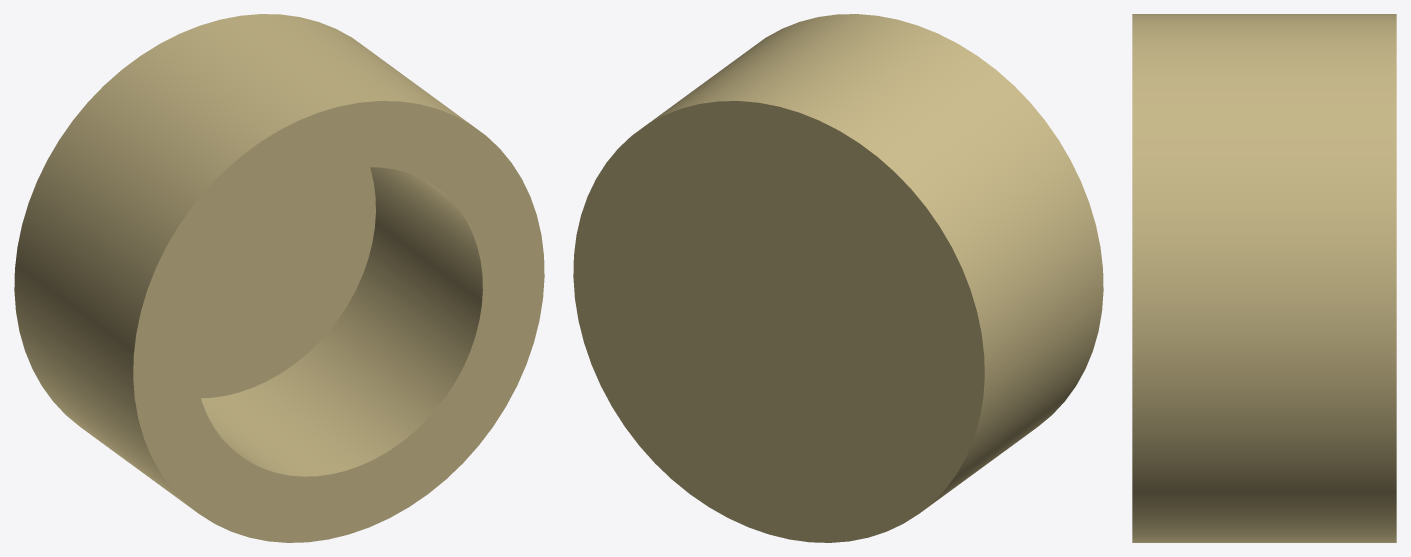
File: step_10.glb
3 renders of one model, left to right at view 1: azimuth 30°, elevation 25°; view 2: azimuth 150°, elevation 25°; view 3: azimuth 270°, elevation 25°, orthographic. The views are drawn at different scales.
Visible parts, largest first — view 1: part__cup 1; view 2: part__cup 1; view 3: part__cup 1.
Boxes of the visible parts, bbox=[...] form: part__cup 1: bbox=[14, 14, 544, 542]; part__cup 1: bbox=[573, 14, 1103, 542]; part__cup 1: bbox=[1132, 14, 1396, 542].
Size of the model in its own units: 19.99 by 19.99 by 10.
